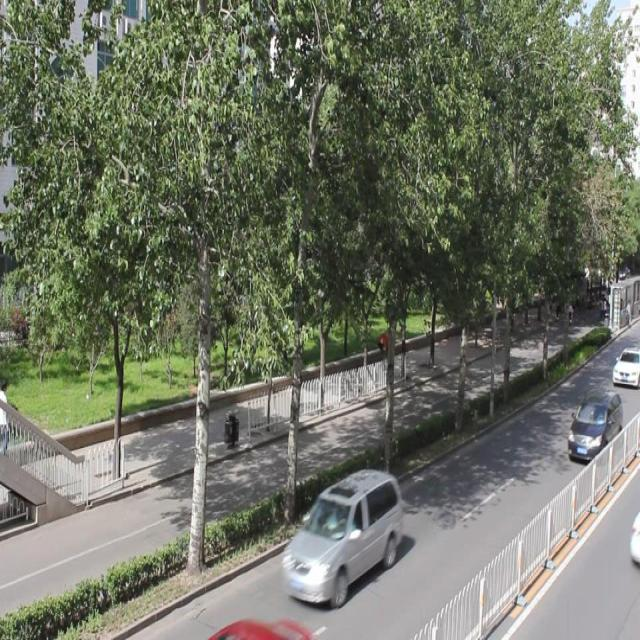car: (282, 467, 401, 603), (566, 387, 620, 458)
